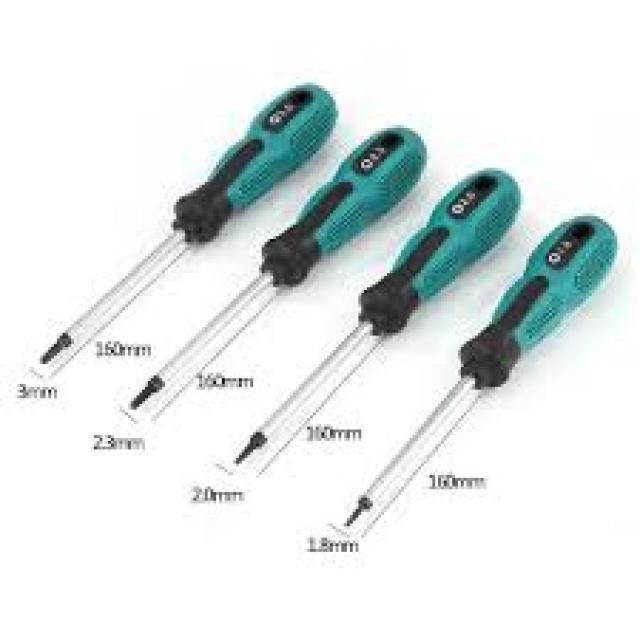screwdriver: (115, 125, 428, 410), (340, 210, 616, 532), (232, 165, 525, 466), (39, 84, 338, 366)
